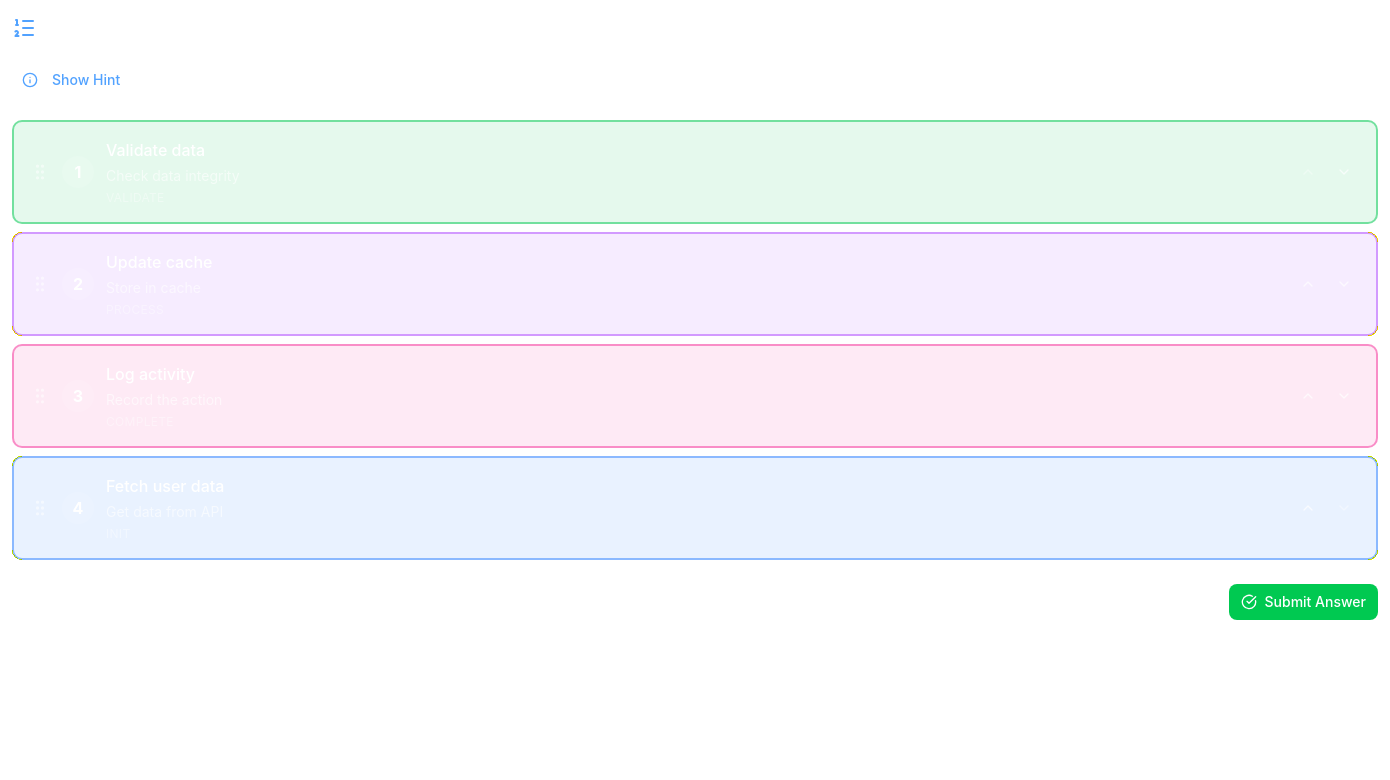
Test case: SequencePuzzle › hint functionality › shows hint when hint button is clicked
The width and height of the screenshot is (1390, 780).
Click the button "Show Hint" at x=71, y=80, box [12, 64, 130, 96]
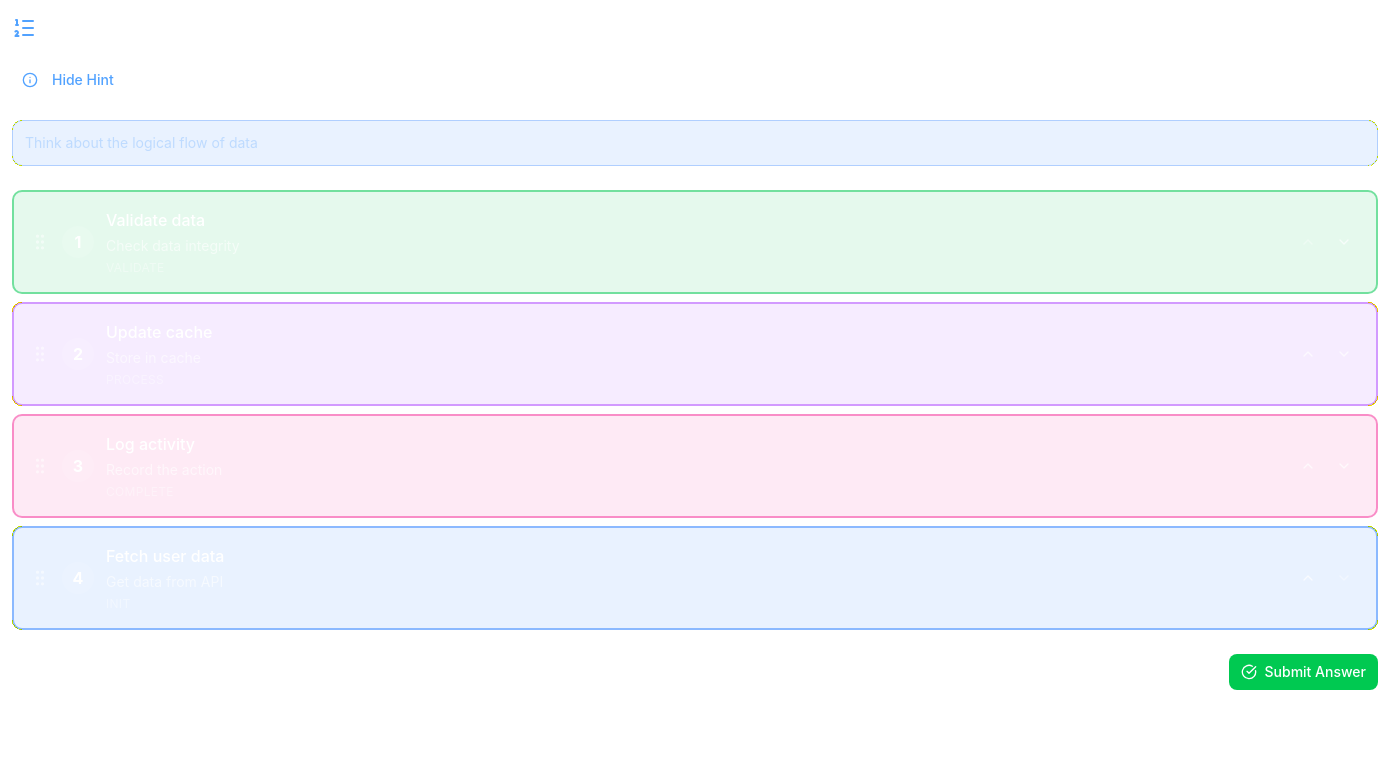
Expected: the text "Think about the logical flow of data" is shown, [25, 134, 258, 151]
